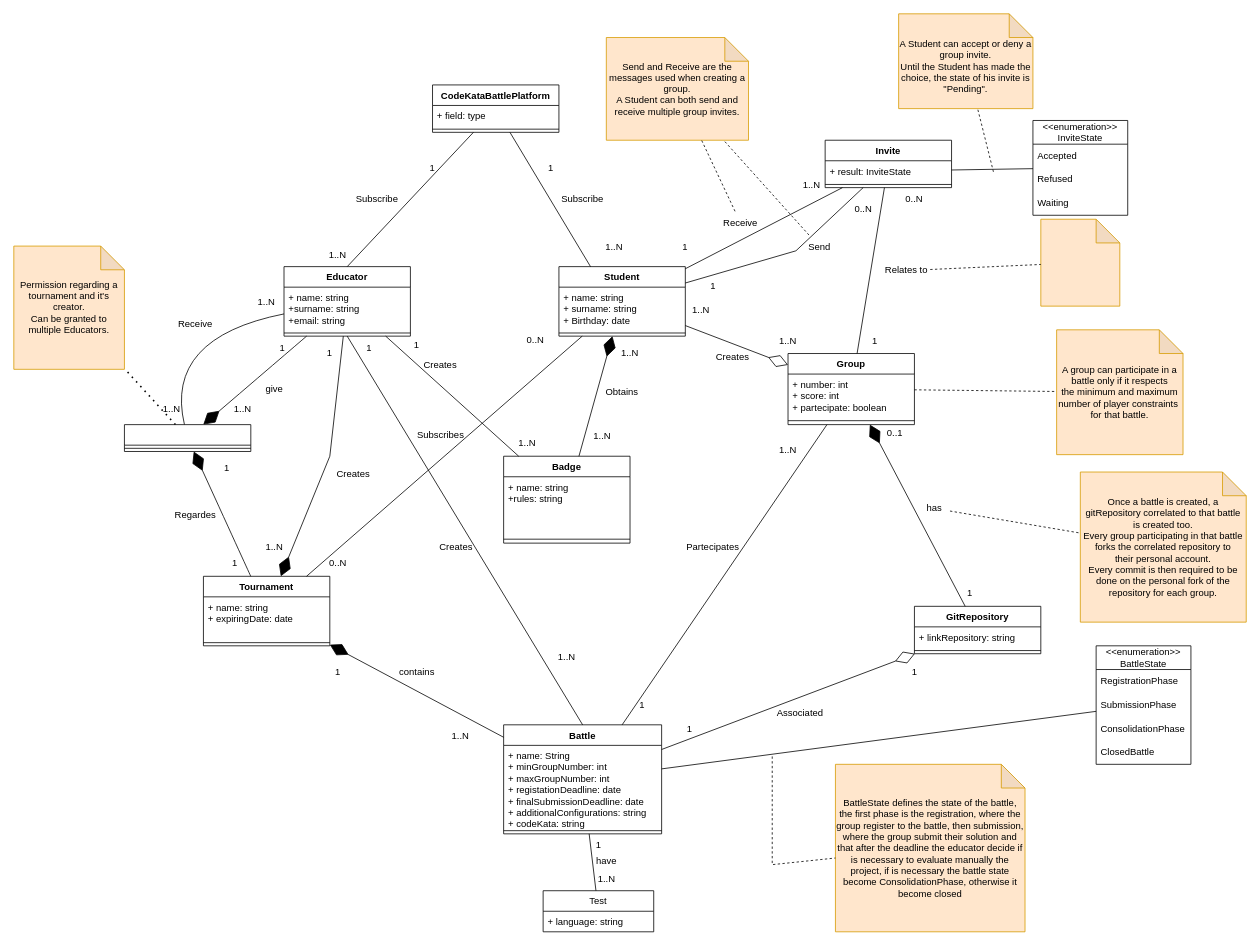
Some shapes in this 1260 by 948 pixel diagram are drawn without their labels. Each missing label, with the centre of its shape:
"An invite can be relative to only one group" belongs at (x=1080, y=262).
"Permission" belongs at (x=187, y=437).
